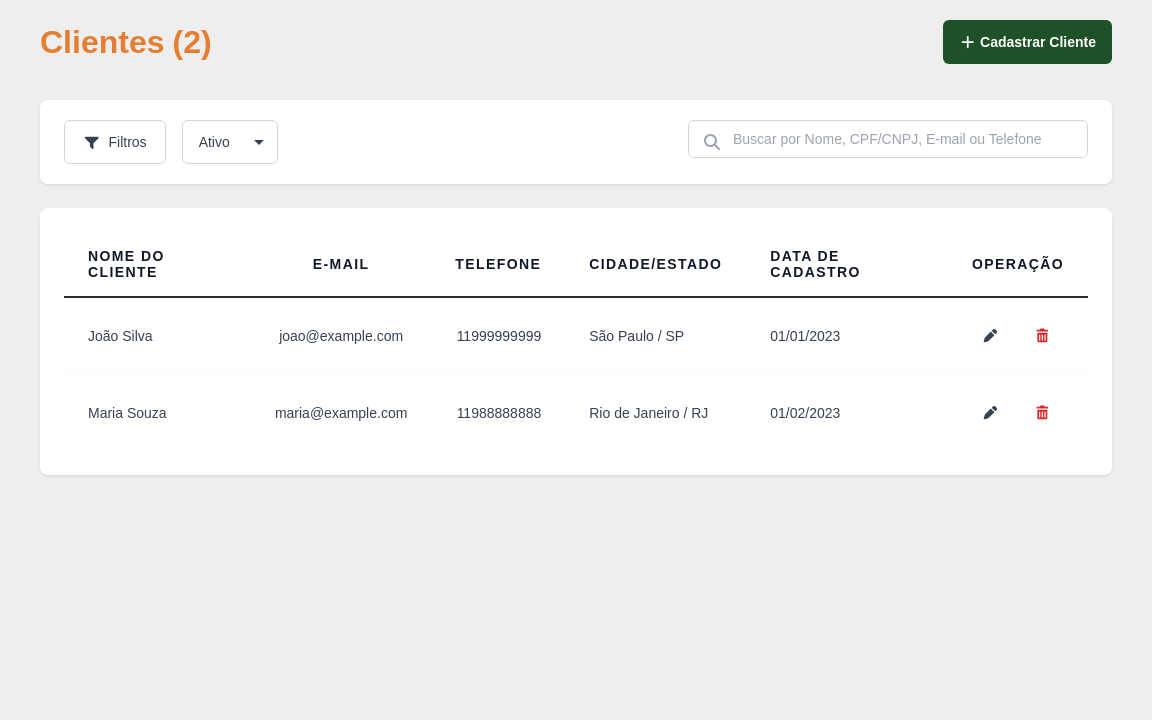
Clients Page › should handle client deletion backend error
The image size is (1152, 720).
Expected: the text "João Silva" is shown, x1=64 y1=297 x2=251 y2=374
Click the button named "Deletar" in the row of "João Silva" at (1042, 336), box x1=1024 y1=318 x2=1060 y2=354
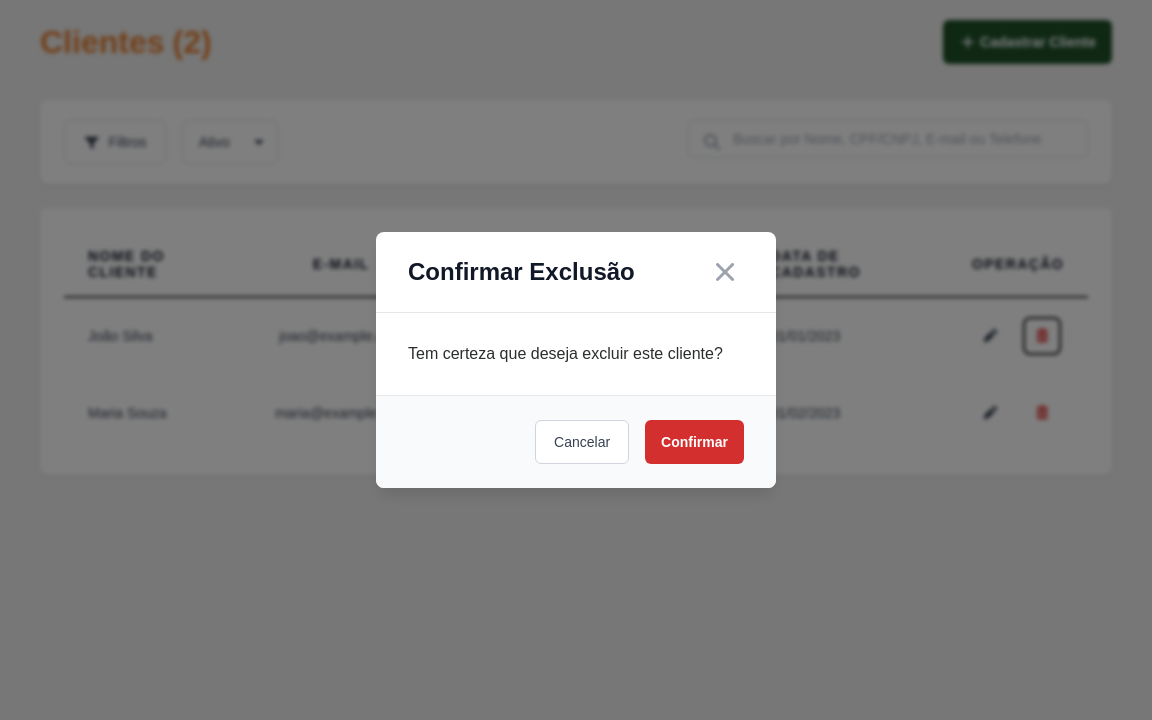
Click the button "Confirmar" at (695, 442), box x1=645 y1=420 x2=744 y2=464
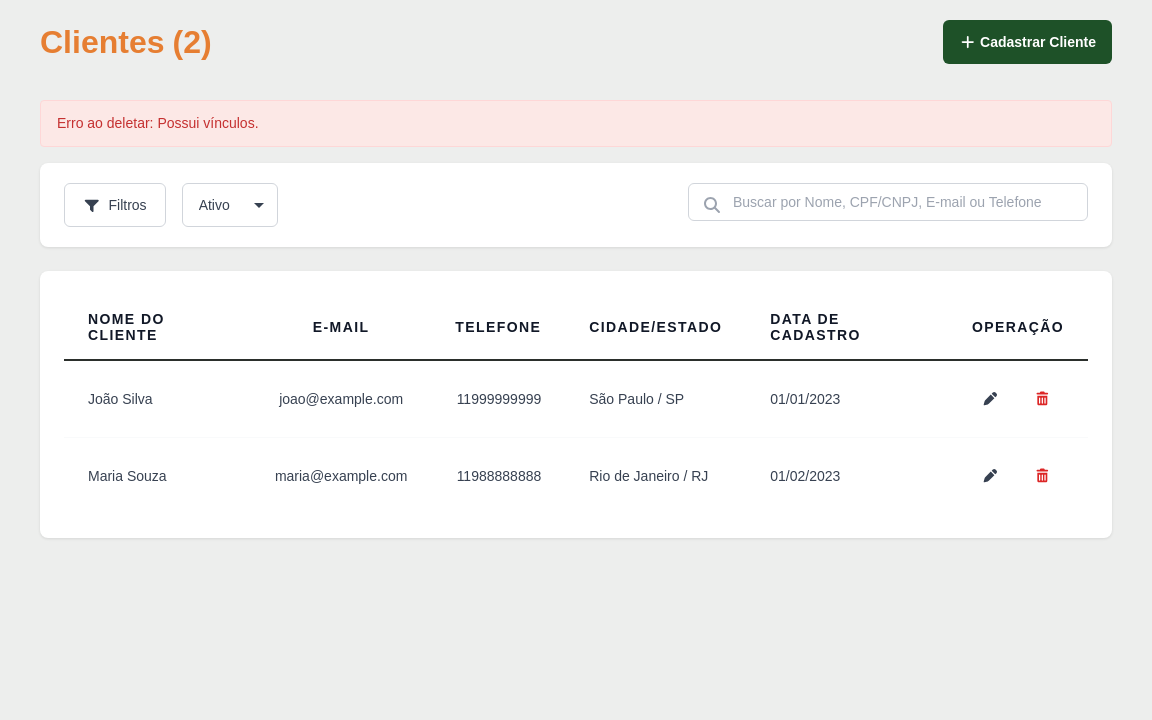
Expected: the text "João Silva" is shown, x1=64 y1=360 x2=251 y2=438
Expected: the text "Erro ao deletar: Possui vínculos." is shown, x1=40 y1=100 x2=1112 y2=147
